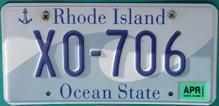placa de veiculo: (2, 3, 211, 102)
